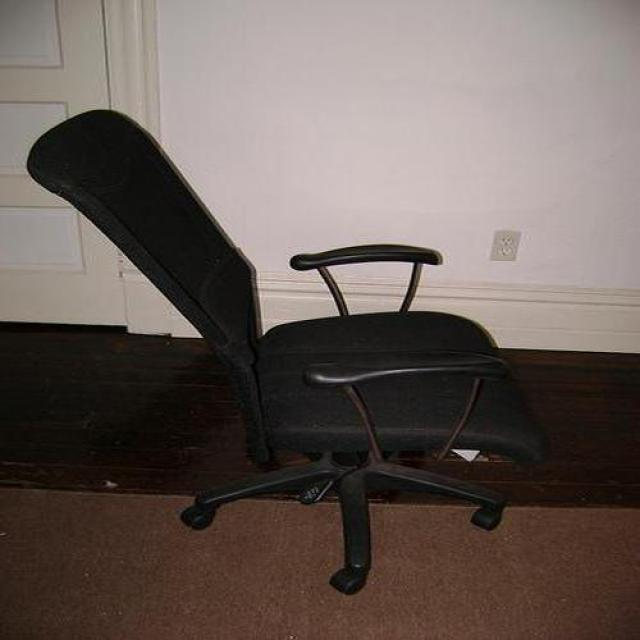swivelchair: (26, 110, 549, 598)
